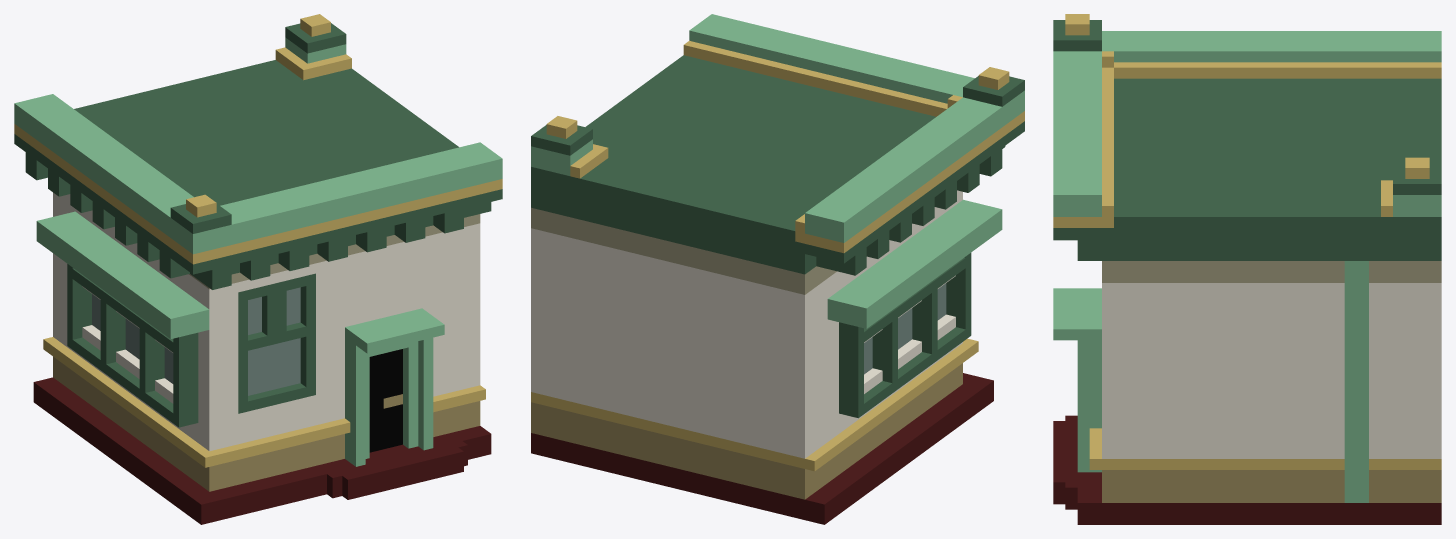
The model's file is tile_1_right_corner.obj.
3 views of the same model, side by side, from view 1: azimuth 30°, elevation 25°; view 2: azimuth 150°, elevation 25°; view 3: azimuth 270°, elevation 25° (orthographic). The views are drawn at different scales.
Bounding box in the file's own units: 3.2 × 3.2 × 3.2.
